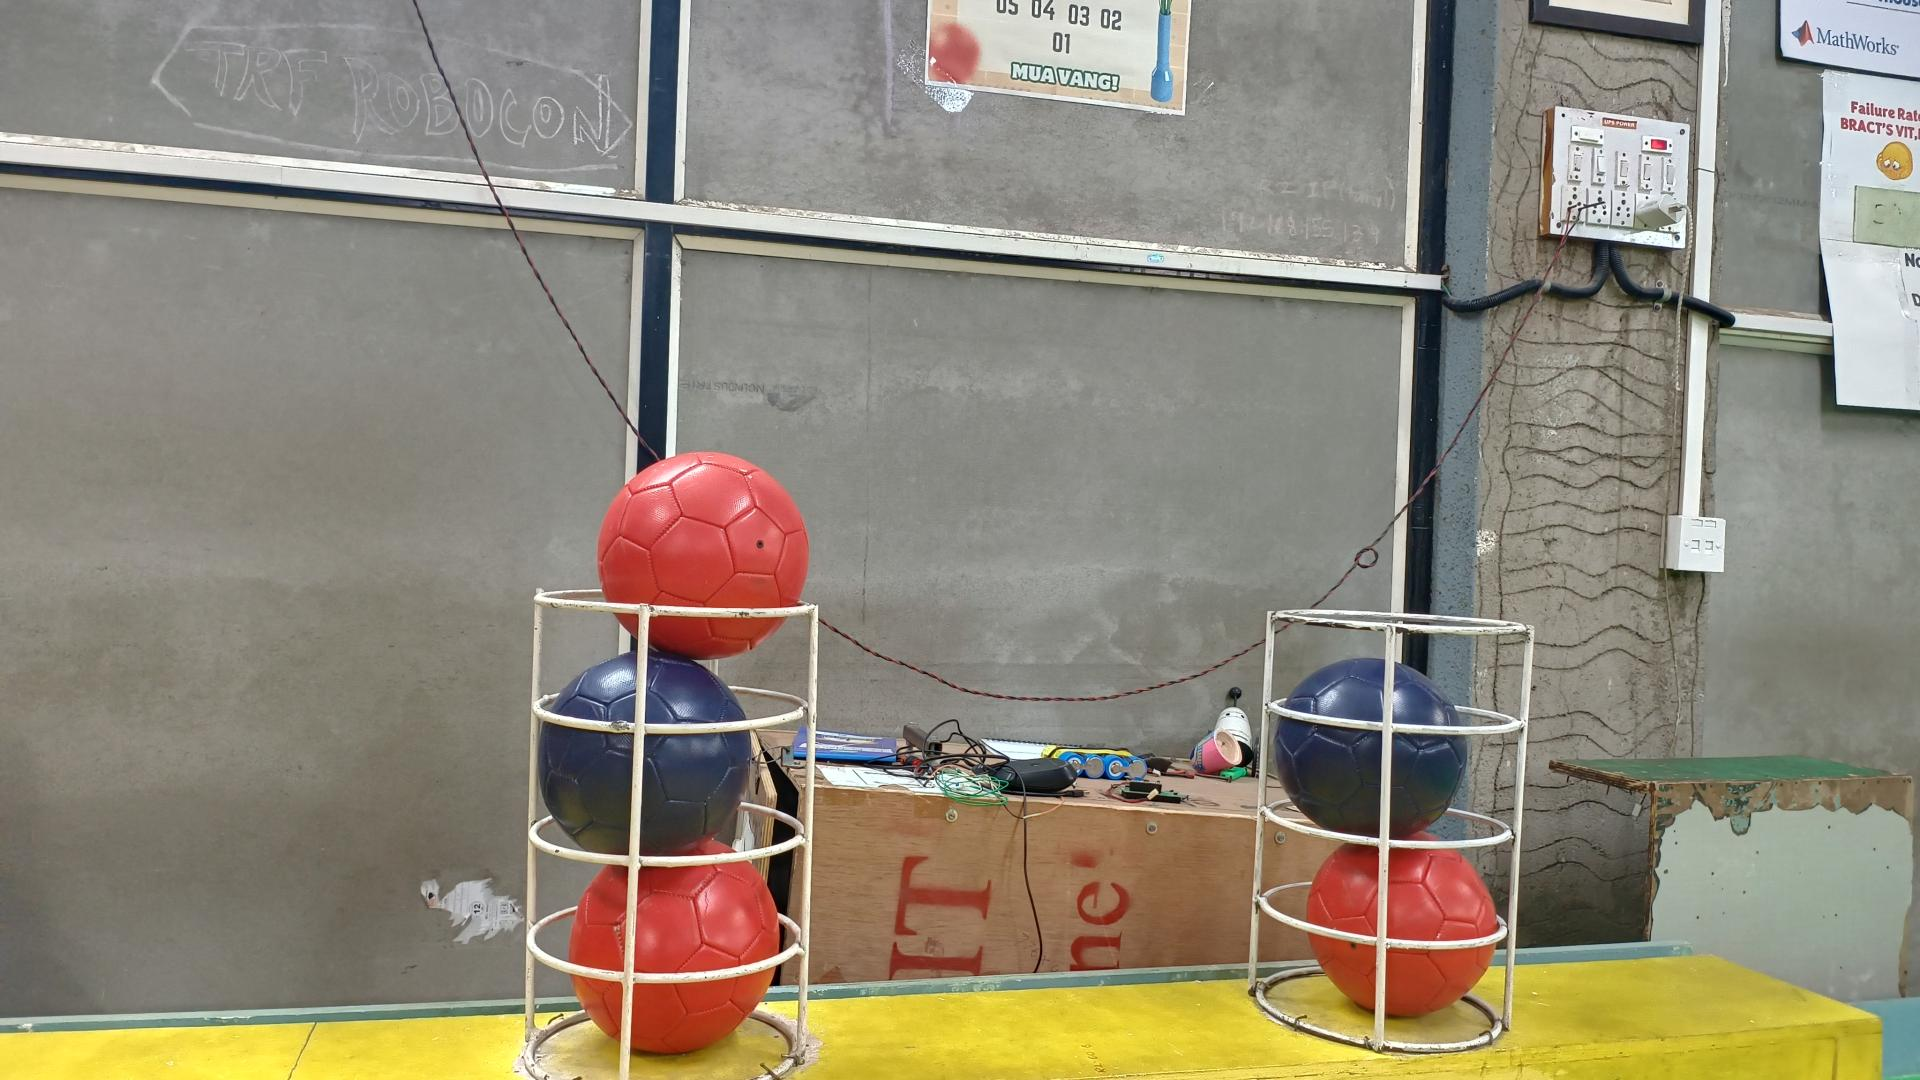dhoka: (537, 653, 754, 858), (1275, 657, 1466, 840)
laale: (570, 840, 783, 1058), (596, 450, 810, 661), (1305, 844, 1501, 1017)
